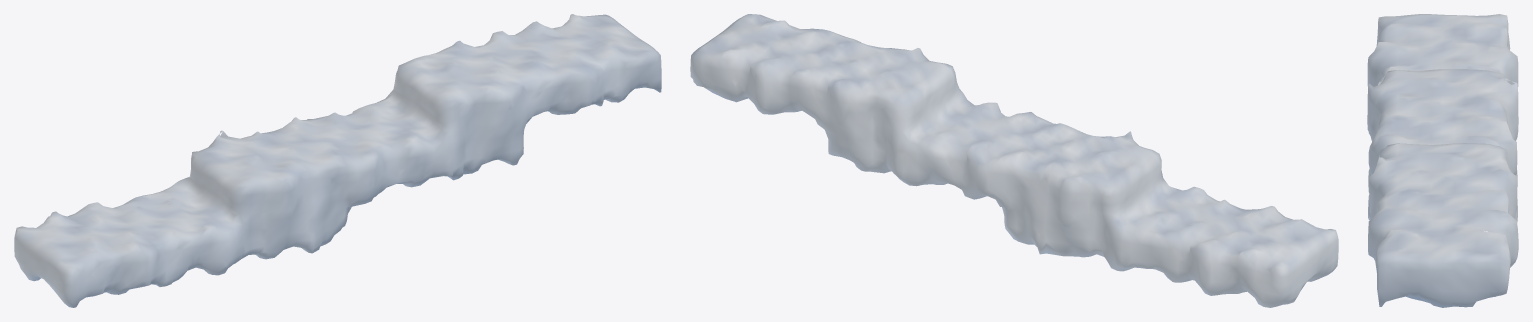
Rendered from Luna0CinemaNuvens3D.glb.
3 views of the same model, side by side, from view 1: azimuth 30°, elevation 25°; view 2: azimuth 150°, elevation 25°; view 3: azimuth 270°, elevation 25° (orthographic). The views are drawn at different scales.
Parts seen in each view (by area): view 1: Luna0CinemaNuvens3D; view 2: Luna0CinemaNuvens3D; view 3: Luna0CinemaNuvens3D.
Part boxes in pixels (left/top/right/bottom): Luna0CinemaNuvens3D: left=14, top=14, right=661, bottom=307; Luna0CinemaNuvens3D: left=690, top=14, right=1338, bottom=307; Luna0CinemaNuvens3D: left=1367, top=14, right=1518, bottom=307.
Size of the model in its own units: 17.98 by 3.68 by 3.46.
